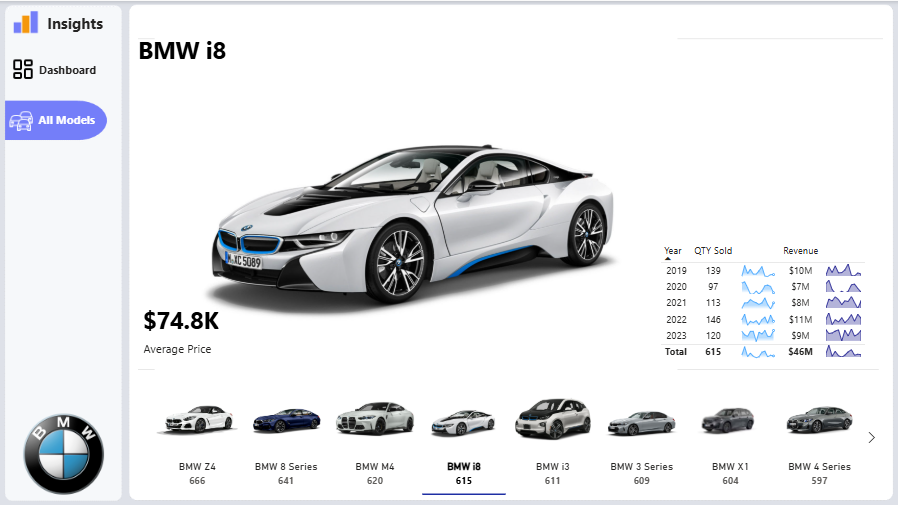

The dashboard page shown, as its layout file describes it:
{"tool":"powerbi","page":{"name":" All Models","canvas":[1280,720],"ordinal":1},"visuals":[{"type":"advancedSlicerVisual","fields":{"Values":["Dim Model.Model"]},"box":[199.8,529.4,1056,175.5],"z":0},{"type":"advancedSlicerVisual","fields":{"Values":["Dim Model.Model"]},"box":[198.4,27.1,792,502.3],"z":1000},{"type":"shape","box":[199.8,28.5,479.5,79.9],"z":2000},{"type":"shape","box":[206.9,410.6,176.9,79.9],"z":3000},{"type":"textbox","box":[202.6,476.2,134.1,35.7],"z":4000},{"type":"tableEx","fields":{"Values":["Calender.Year","All Measures.QTY Sold","All Measures.Opaque Area Sparkline (no one value) bright","All Measures.Revenue","All Measures.Revenue Sparkline"]},"box":[940.4,338.2,329.6,191.2],"z":5000},{"type":"textbox","box":[51.4,157,95.6,30],"z":6000},{"type":"image","box":[5.7,148.4,57.1,42.8],"z":7000},{"type":"textbox","box":[52.4,87,95.6,30],"z":8000},{"type":"image","box":[11,75.6,51.4,42.8],"z":9000},{"type":"actionButton","box":[11.4,71.3,165.5,54.2],"z":10000},{"type":"image","box":[12.8,579.7,163,124.7],"z":11000},{"type":"textbox","box":[62.4,17,96.4,29.8],"z":12000},{"type":"image","box":[2.8,4.3,75.1,48.2],"z":13000}]}

Visuals, with their boxes on the page's 1280x720 design canvas (x1, y1, x2, y2). These are canvas units, not pixel positions in the 898x505 screenshot, which may show the page scaled, cropped or inside an application window:
advancedSlicerVisual - Dim Model.Model: <region>200, 529, 1256, 705</region>
advancedSlicerVisual - Dim Model.Model: <region>198, 27, 990, 529</region>
shape: <region>200, 28, 679, 108</region>
shape: <region>207, 411, 384, 490</region>
textbox: <region>203, 476, 337, 512</region>
tableEx - Calender.Year x All Measures.QTY Sold: <region>940, 338, 1270, 529</region>
textbox: <region>51, 157, 147, 187</region>
image: <region>6, 148, 63, 191</region>
textbox: <region>52, 87, 148, 117</region>
image: <region>11, 76, 62, 118</region>
actionButton: <region>11, 71, 177, 126</region>
image: <region>13, 580, 176, 704</region>
textbox: <region>62, 17, 159, 47</region>
image: <region>3, 4, 78, 52</region>
